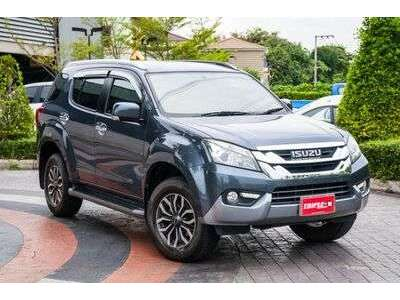pickup: (34, 57, 372, 263)
